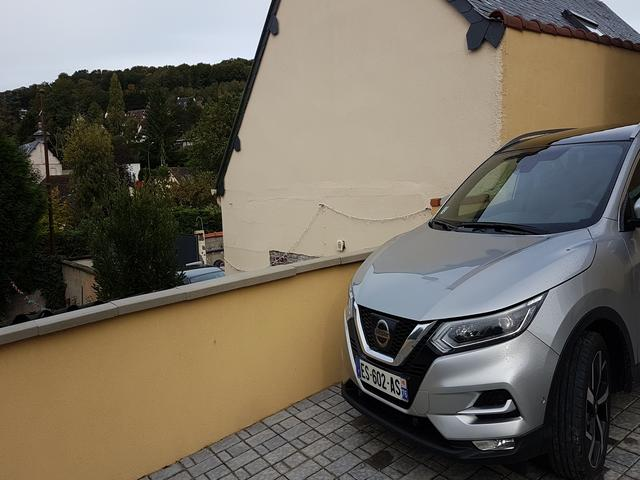Quashquai: (349, 355, 415, 407)
